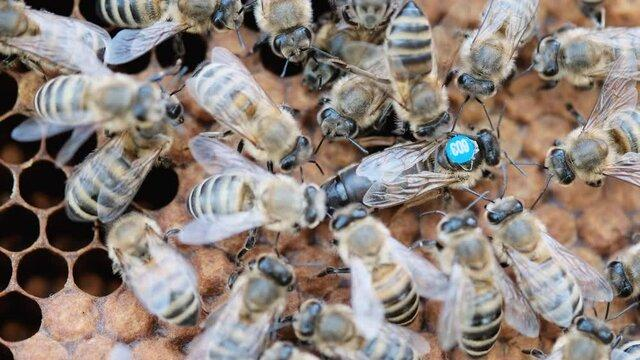Queen-Bee: (321, 129, 501, 208)
worker-bee: (485, 164, 611, 327), (179, 133, 326, 244), (187, 47, 314, 172), (318, 203, 447, 325), (12, 71, 183, 162), (435, 210, 538, 359), (542, 49, 639, 190), (188, 254, 295, 359), (106, 212, 200, 326), (454, 0, 538, 124), (65, 130, 171, 222), (383, 0, 450, 140)
